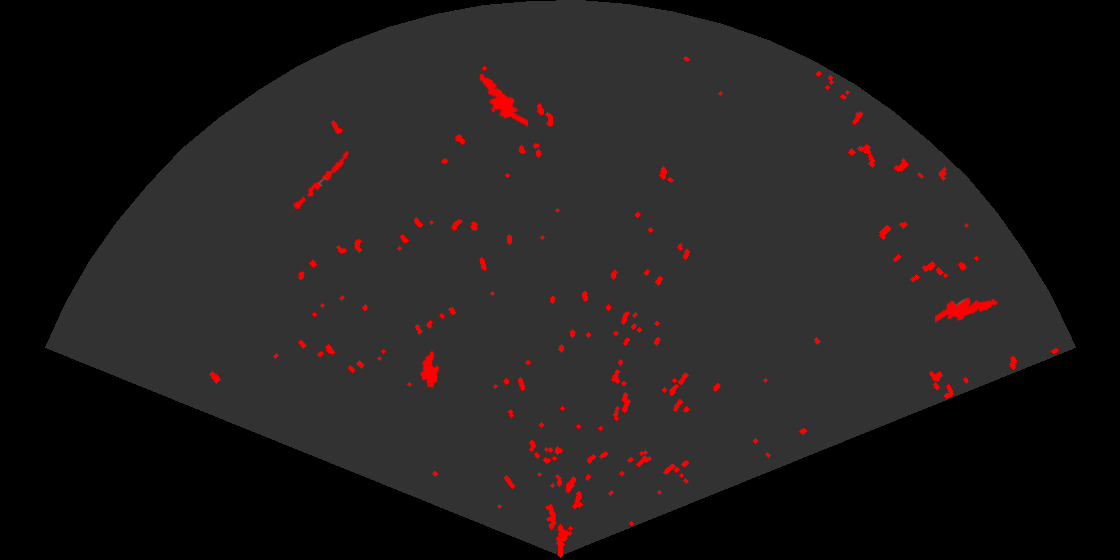AUV: (418, 349, 441, 390)
chain: (286, 149, 350, 219)
frogman: (477, 72, 528, 128), (935, 296, 1000, 324)
